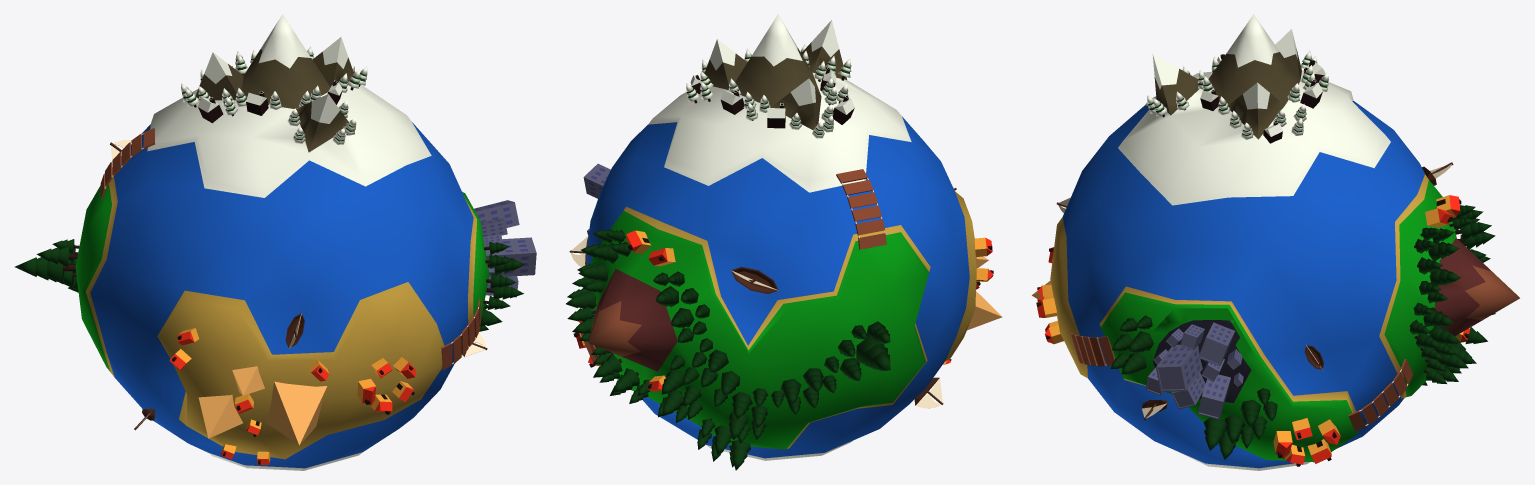
File: cute-little-planet.obj
3 views of the same model, side by side, from view 1: azimuth 30°, elevation 25°; view 2: azimuth 150°, elevation 25°; view 3: azimuth 270°, elevation 25° (orthographic). The views are drawn at different scales.
Visible parts, largest first — view 1: Planet, Pyramid0, Pyramid1, Skyscraper0, Bridge2, Bridge0, PineTree77, Skyscraper4, Pyramid2; view 2: Planet, Bridge0, PineTree77, Boat.001, Pyramid1, Skyscraper4; view 3: Planet, Skyscraper0, Bridge1, Bridge2, Skyscraper1, Skyscraper4, Skyscraper2, PineTree7.
Part boxes in pixels (x1,y1,x2,y2): Planet: (75, 14, 489, 470); Pyramid0: (266, 381, 327, 445); Pyramid1: (198, 394, 242, 438); Skyscraper0: (485, 237, 536, 276); Bridge2: (441, 299, 481, 369); Bridge0: (100, 128, 154, 199); PineTree77: (15, 257, 75, 283); Skyscraper4: (474, 200, 519, 227); Pyramid2: (232, 366, 264, 395); Planet: (582, 14, 976, 460); Bridge0: (836, 169, 886, 249); PineTree77: (856, 335, 890, 371); Boat.001: (731, 266, 778, 293); Pyramid1: (967, 291, 1002, 330); Skyscraper4: (583, 163, 610, 198); Planet: (1050, 14, 1519, 470); Skyscraper0: (1156, 344, 1202, 391); Bridge1: (1348, 359, 1412, 431); Bridge2: (1070, 331, 1115, 366); Skyscraper1: (1197, 374, 1230, 419); Skyscraper4: (1198, 322, 1235, 366); Skyscraper2: (1171, 373, 1205, 409); PineTree7: (1203, 417, 1226, 450).
Size of the model in its own units: 70.66 by 73.41 by 73.79.
